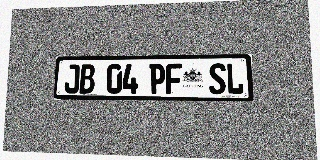0: (106, 64, 122, 94)
4: (122, 64, 138, 94)
B: (79, 64, 95, 94)
F: (166, 63, 182, 94)
J: (64, 64, 80, 93)
L: (226, 63, 244, 94)
P: (149, 64, 165, 94)
S: (209, 63, 226, 94)
